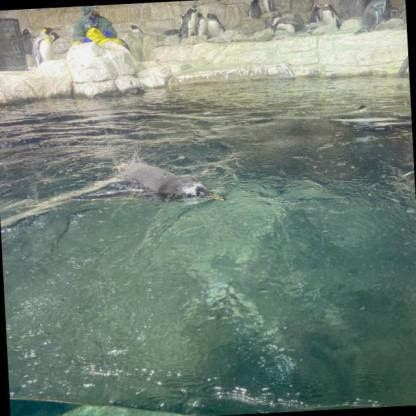penguin: (68, 140, 226, 210), (348, 0, 396, 36), (31, 27, 67, 69), (177, 6, 203, 40), (395, 30, 410, 88), (10, 28, 39, 55), (316, 3, 340, 31), (206, 13, 228, 40), (272, 17, 302, 35), (246, 0, 264, 20), (262, 0, 275, 14), (128, 24, 142, 35)
